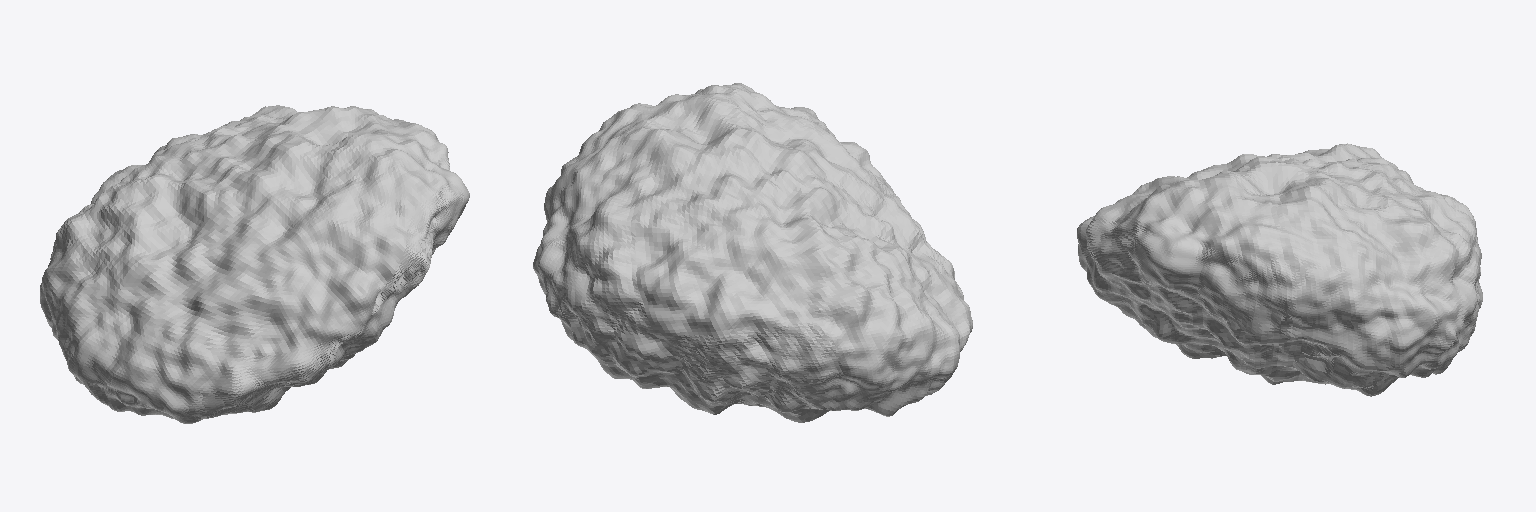
The model's file is Asteroid_4.obj.
3 views of the same model, side by side, from view 1: azimuth 30°, elevation 25°; view 2: azimuth 150°, elevation 25°; view 3: azimuth 270°, elevation 25° (orthographic).
Parts seen in each view (by area): view 1: Cube; view 2: Cube; view 3: Cube.
Part boxes in pixels (x1,y1,x2,y2): Cube: (40, 105, 469, 423); Cube: (533, 83, 972, 422); Cube: (1077, 143, 1482, 396).
Bounding box in the file's own units: 2.19 × 1.34 × 2.07.